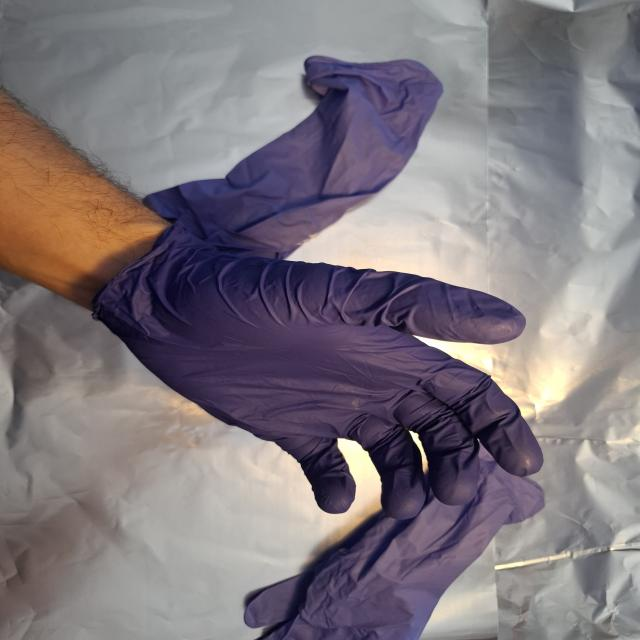glove_on: (90, 223, 548, 522)
